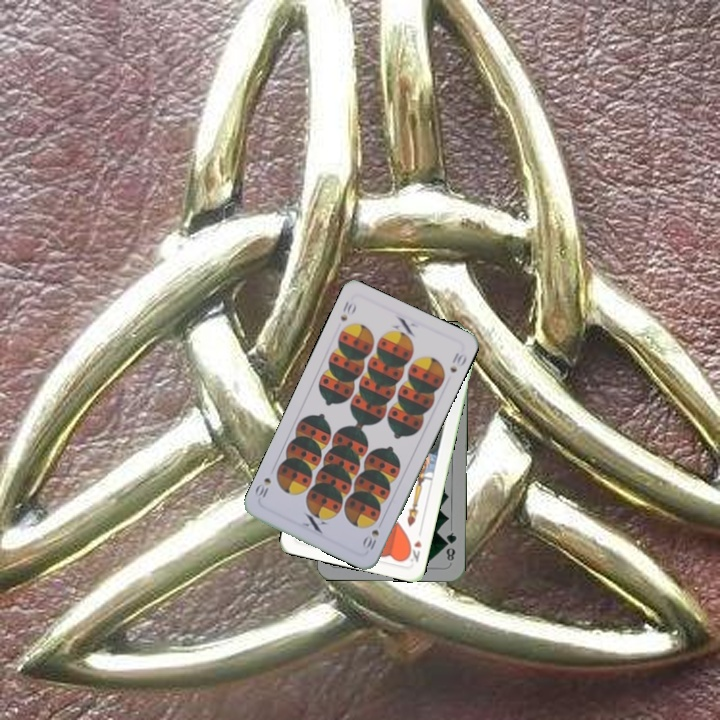G8: (441, 528, 459, 563)
HK: (402, 536, 424, 565)
S10: (360, 525, 382, 554), (336, 297, 359, 324)
